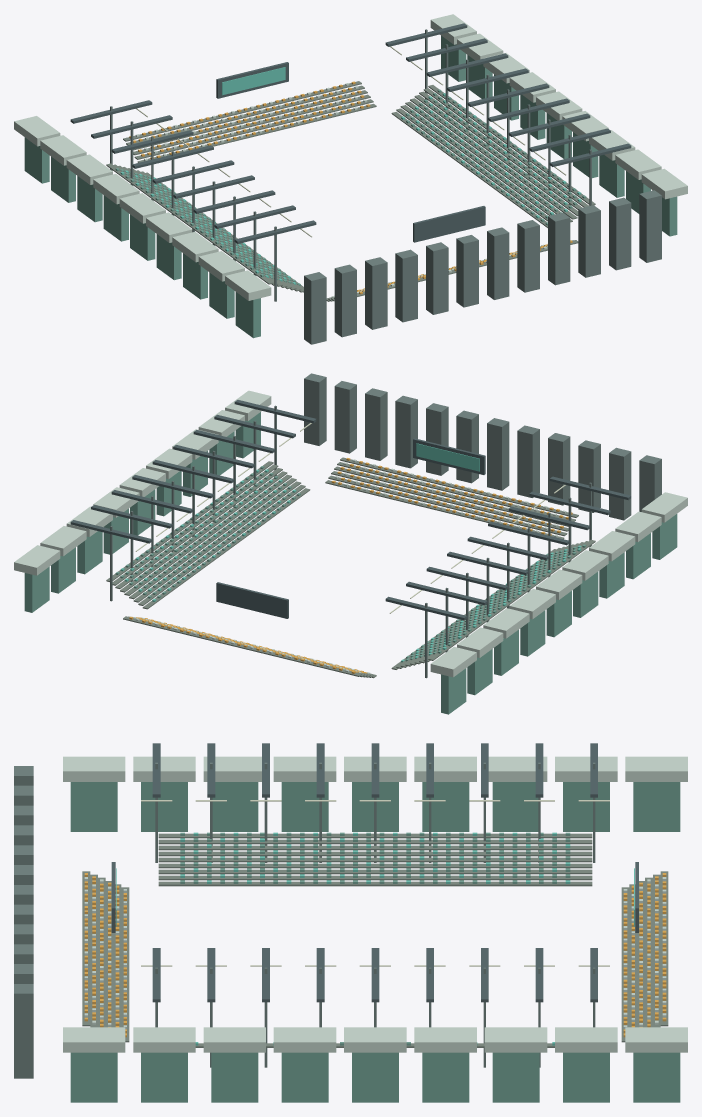
File: range.glb
3 views of the same model, one above another, from view 1: azimuth 30°, elevation 25°; view 2: azimuth 150°, elevation 25°; view 3: azimuth 270°, elevation 25° (orthographic). The views are drawn at different scales.
Visible parts, largest first — view 1: range_original_1, range_original_2, range_original_5, range_original_6, range_original_0, range_original_4, range_original_3; view 2: range_original_1, range_original_2, range_original_6, range_original_5, range_original_0, range_original_4, range_original_3; view 3: range_original_2, range_original_5, range_original_6, range_original_1, range_original_0, range_original_3, range_original_4, range_original_7.
Boxes of the visible parts, x1=… form: range_original_1: x1=110, y1=29, x2=661, y2=344; range_original_2: x1=24, y1=35, x2=677, y2=338; range_original_5: x1=14, y1=14, x2=687, y2=300; range_original_6: x1=106, y1=81, x2=595, y2=301; range_original_0: x1=70, y1=23, x2=631, y2=243; range_original_4: x1=120, y1=67, x2=581, y2=284; range_original_3: x1=129, y1=81, x2=572, y2=294; range_original_1: x1=110, y1=373, x2=661, y2=678; range_original_2: x1=24, y1=412, x2=677, y2=714; range_original_6: x1=106, y1=457, x2=595, y2=678; range_original_5: x1=14, y1=390, x2=687, y2=677; range_original_0: x1=70, y1=400, x2=631, y2=620; range_original_4: x1=120, y1=443, x2=581, y2=662; range_original_3: x1=129, y1=458, x2=572, y2=673; range_original_2: x1=70, y1=782, x2=680, y2=1102; range_original_5: x1=63, y1=756, x2=687, y2=1052; range_original_6: x1=82, y1=833, x2=668, y2=1047; range_original_1: x1=14, y1=762, x2=595, y2=1078; range_original_0: x1=111, y1=743, x2=638, y2=1002; range_original_3: x1=84, y1=873, x2=666, y2=1037; range_original_4: x1=116, y1=832, x2=634, y2=1045; range_original_7: x1=141, y1=800, x2=609, y2=966.
Size of the model in its own units: 173 by 28.2 by 172.
